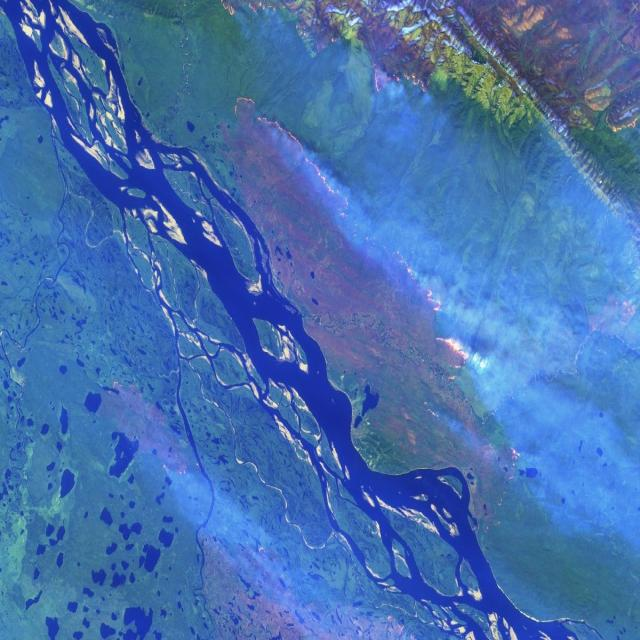fire: (230, 82, 475, 434), (213, 0, 350, 52)
